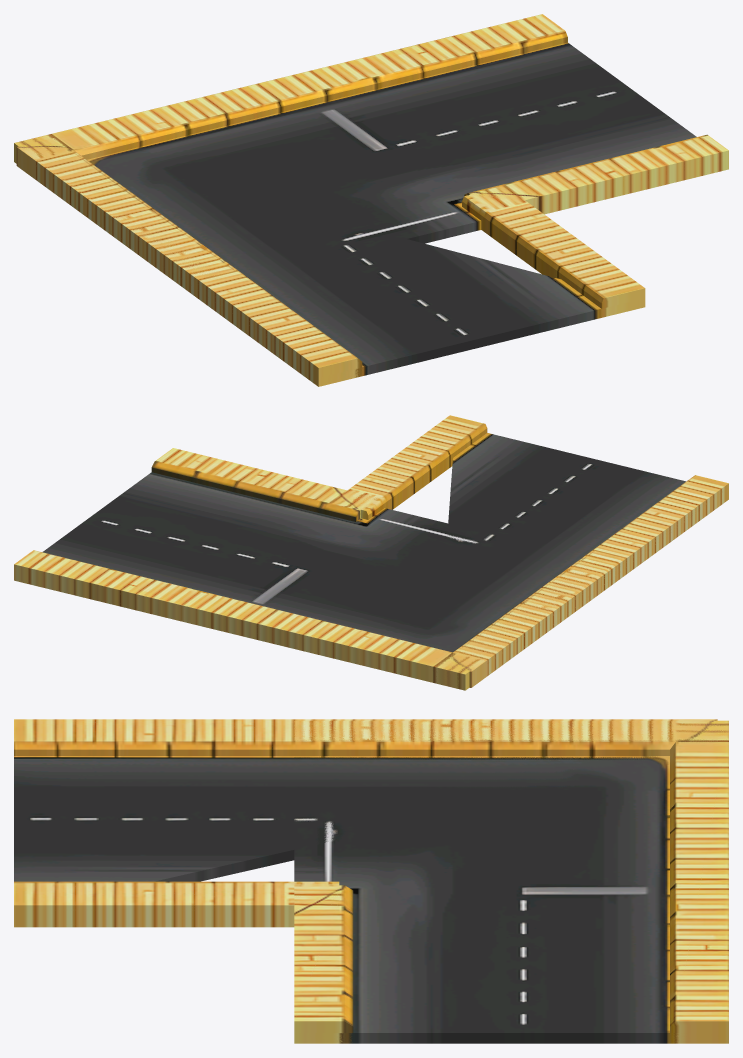
The model's file is Road4.glb.
The picture shows the model from 3 angles, top to bottom: view 1: azimuth 30°, elevation 25°; view 2: azimuth 150°, elevation 25°; view 3: azimuth 270°, elevation 25°; orthographic projection. The views are drawn at different scales.
Parts seen in each view (by area): view 1: Road4; view 2: Road4; view 3: Road4.
Boxes of the visible parts, x1,y1,x2,y2 form: Road4: (14, 14, 728, 386); Road4: (14, 415, 728, 690); Road4: (14, 719, 728, 1043).
Bounding box in the file's own units: 184 × 6.29 × 184.
Materials: 1 (1 with a texture image).
